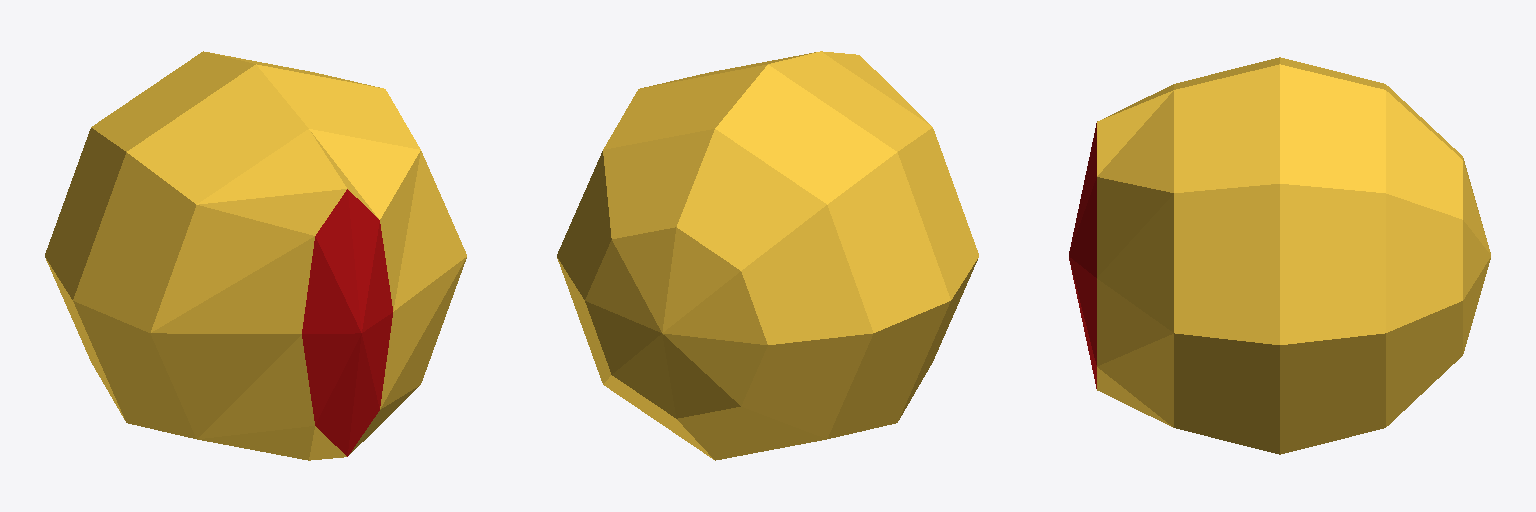
3 renders of one model, left to right at view 1: azimuth 30°, elevation 25°; view 2: azimuth 150°, elevation 25°; view 3: azimuth 270°, elevation 25°, orthographic.
Visible parts, largest first — view 1: Sphere; view 2: Sphere; view 3: Sphere.
Boxes of the visible parts, x1=… form: Sphere: x1=45, y1=51, x2=466, y2=460; Sphere: x1=557, y1=51, x2=978, y2=460; Sphere: x1=1069, y1=57, x2=1490, y2=454.
Bounding box in the file's own units: 2 × 2 × 2.
Materials: 1 (1 with a texture image).